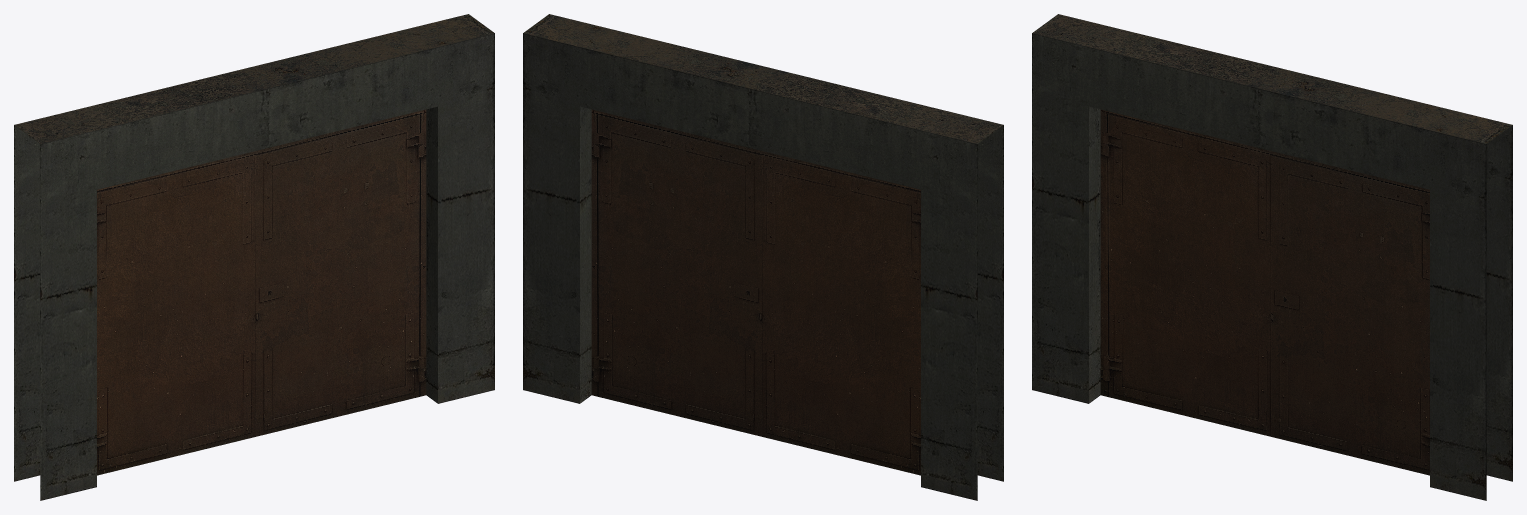
Rendered from garage_door_frame_rg_2.glb.
3 views of the same model, side by side, from view 1: azimuth 30°, elevation 25°; view 2: azimuth 150°, elevation 25°; view 3: azimuth 330°, elevation 25° (orthographic).
Parts seen in each view (by area): view 1: garage_door_hm_3, garage_door_frame_rg_2; view 2: garage_door_hm_3, garage_door_frame_rg_2; view 3: garage_door_hm_3, garage_door_frame_rg_2.
Boxes of the visible parts, <box> form: garage_door_hm_3: <box>97,109,426,475</box>; garage_door_frame_rg_2: <box>14,14,494,500</box>; garage_door_hm_3: <box>591,109,920,475</box>; garage_door_frame_rg_2: <box>523,14,1003,500</box>; garage_door_hm_3: <box>1100,109,1429,475</box>; garage_door_frame_rg_2: <box>1032,14,1512,500</box>.
Bounding box in the file's own units: 4 × 3 × 0.4.
Materials: 3 (3 with a texture image).
